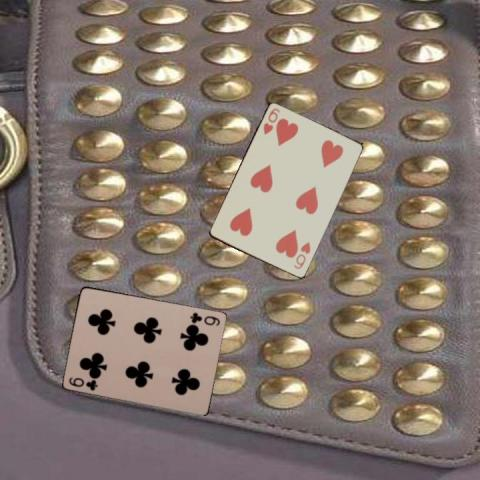6c: (66, 373, 99, 392), (188, 310, 222, 328)
6h: (291, 239, 312, 271), (260, 105, 281, 137)
